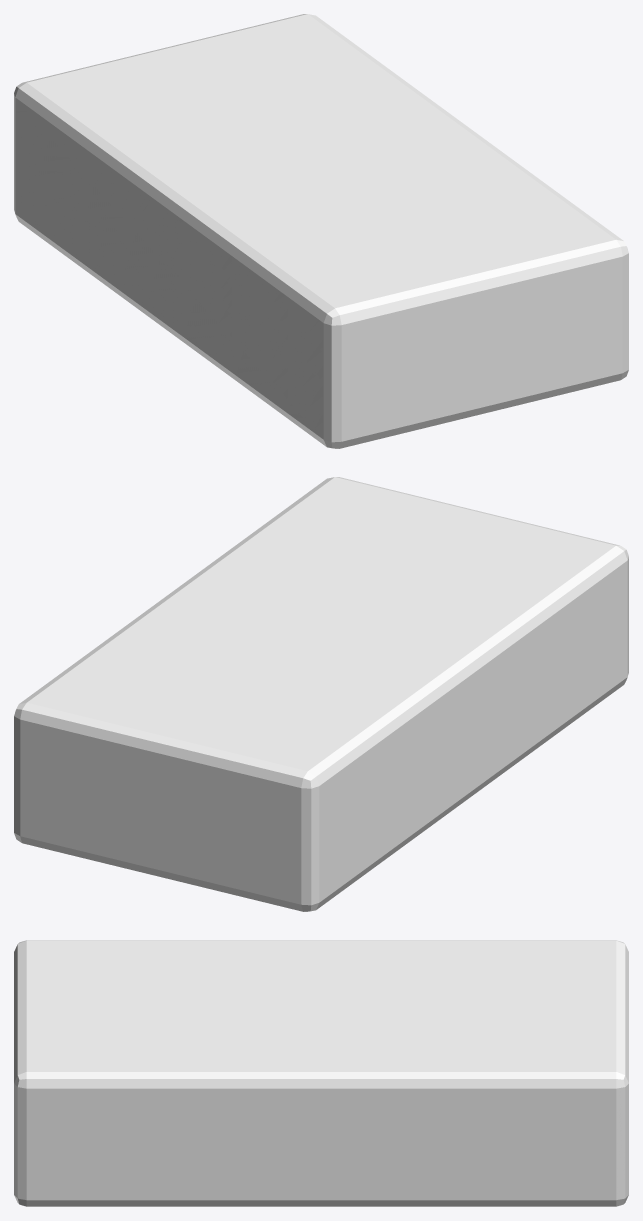
The model's file is AmmoBox.fbx.
3 views of the same model, one above another, from view 1: azimuth 30°, elevation 25°; view 2: azimuth 150°, elevation 25°; view 3: azimuth 270°, elevation 25° (orthographic). The views are drawn at different scales.
Visible parts, largest first — view 1: Cube; view 2: Cube; view 3: Cube.
Boxes of the visible parts, x1=… form: Cube: x1=14, y1=14, x2=628, y2=448; Cube: x1=14, y1=477, x2=628, y2=911; Cube: x1=14, y1=940, x2=628, y2=1206.
Bounding box in the file's own units: 265 × 117 × 486.
